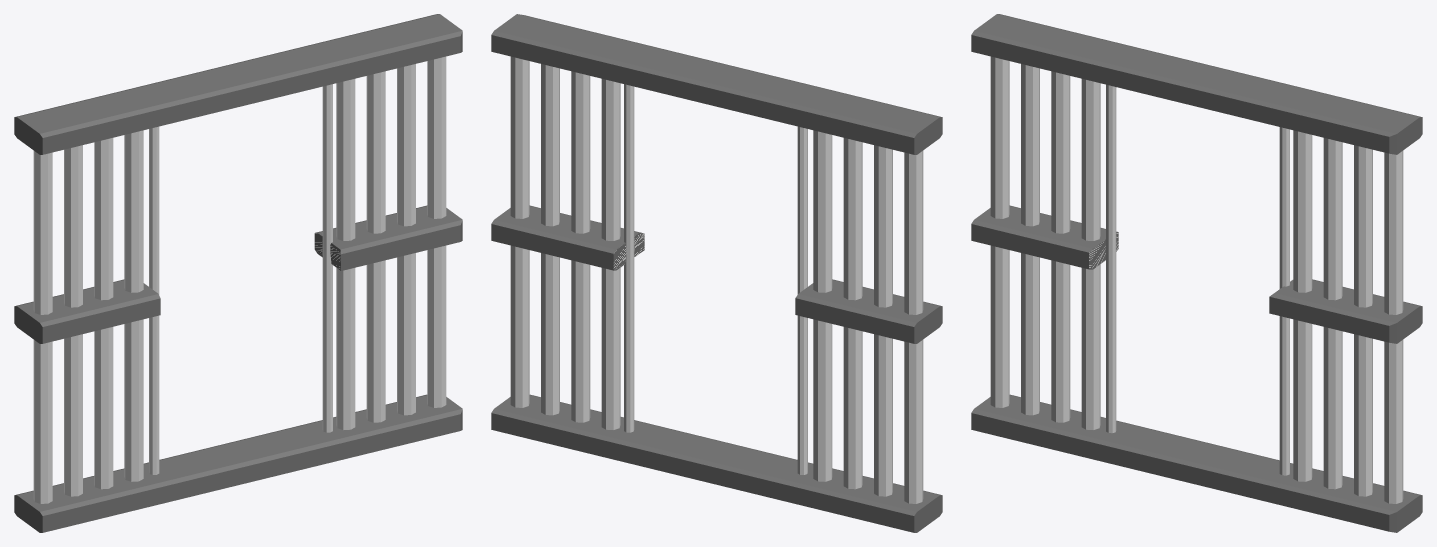
File: CageWithDoorHole.glb
The picture shows the model from 3 angles, left to right: view 1: azimuth 30°, elevation 25°; view 2: azimuth 150°, elevation 25°; view 3: azimuth 330°, elevation 25°; orthographic projection.
Parts seen in each view (by area): view 1: CageWithHole; view 2: CageWithHole; view 3: CageWithHole.
Part boxes in pixels (x1,y1,x2,y2): CageWithHole: [14, 14, 462, 532]; CageWithHole: [491, 14, 942, 532]; CageWithHole: [971, 14, 1422, 532].
Bounding box in the file's own units: 3.71 × 3.34 × 0.4332.
Materials: 1 (1 with a texture image).
